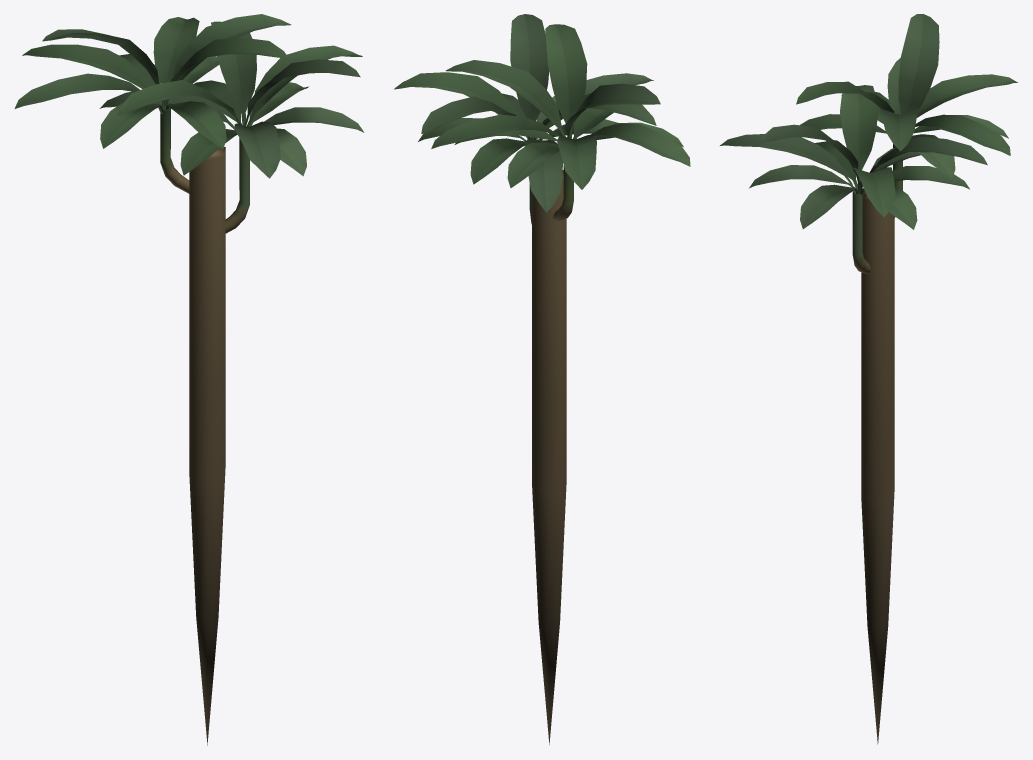
Rendered from plants-trees-palms-palm-tree_v2.fbx.
The picture shows the model from 3 angles, left to right: view 1: azimuth 30°, elevation 25°; view 2: azimuth 150°, elevation 25°; view 3: azimuth 270°, elevation 25°; orthographic projection. The views are drawn at different scales.
Visible parts, largest first — view 1: Palm Tree_v2; view 2: Palm Tree_v2; view 3: Palm Tree_v2.
Part boxes in pixels (x1,y1,x2,y2): Palm Tree_v2: (14, 14, 364, 745); Palm Tree_v2: (394, 14, 690, 744); Palm Tree_v2: (720, 14, 1017, 744).
Size of the model in its own units: 3.78 by 8 by 3.22.
